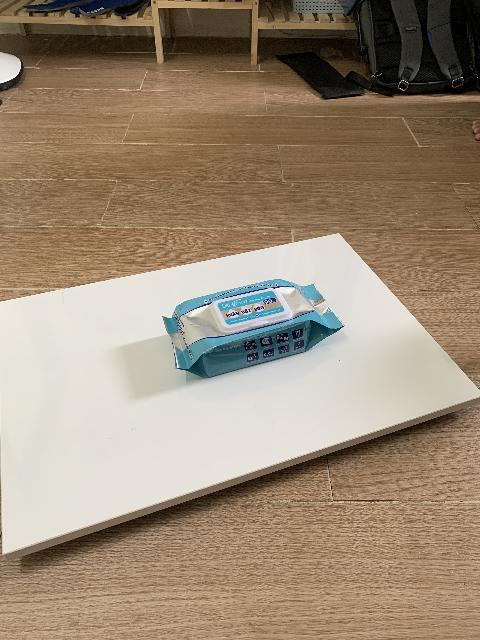Let-green_alcohol_wipes: (162, 280, 341, 380)
